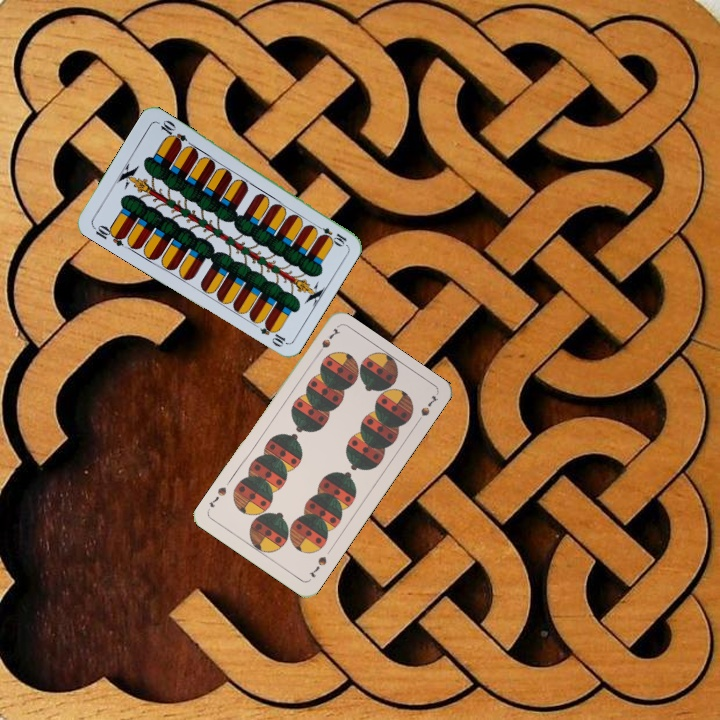E10: (89, 221, 128, 249), (311, 221, 349, 248)
S7: (312, 324, 342, 359), (305, 552, 329, 580)
